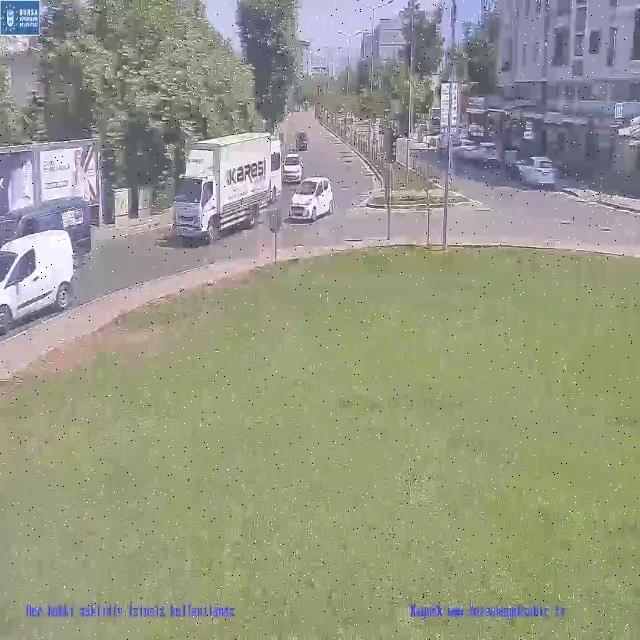Car: (288, 176, 332, 222), (519, 156, 557, 185), (282, 153, 304, 184), (295, 131, 309, 151)
Truck: (172, 130, 274, 244)
Van: (0, 228, 76, 338), (0, 195, 93, 264)
